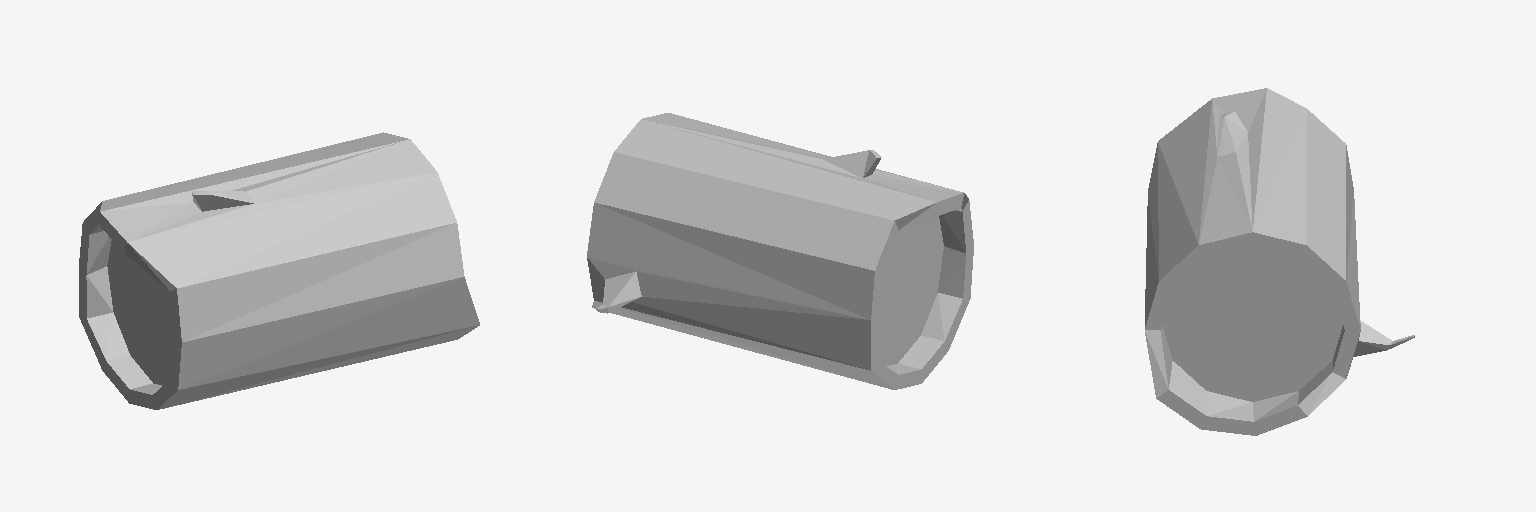
Rendered from WoWLog.obj.
The picture shows the model from 3 angles: view 1: azimuth 30°, elevation 25°; view 2: azimuth 150°, elevation 25°; view 3: azimuth 270°, elevation 25°; orthographic projection.
Parts seen in each view (by area): view 1: Cylinder; view 2: Cylinder; view 3: Cylinder.
Boxes of the visible parts, <box> form: Cylinder: <box>79,132,479,409</box>; Cylinder: <box>587,113,973,389</box>; Cylinder: <box>1145,88,1414,435</box>.
Size of the model in its own units: 1.74 by 1.06 by 1.25.